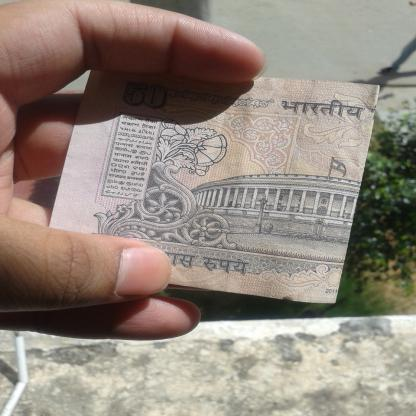Old50Back: (50, 66, 382, 304)
